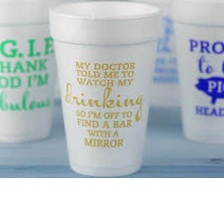paper_cup: (44, 0, 165, 177), (0, 0, 66, 148), (163, 0, 224, 150)
